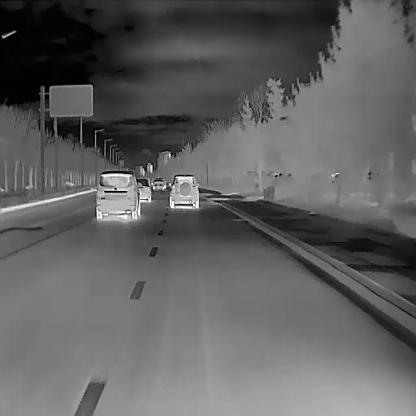car: (96, 169, 143, 219), (168, 173, 199, 209), (135, 177, 152, 202), (152, 177, 164, 189), (162, 177, 166, 188)
